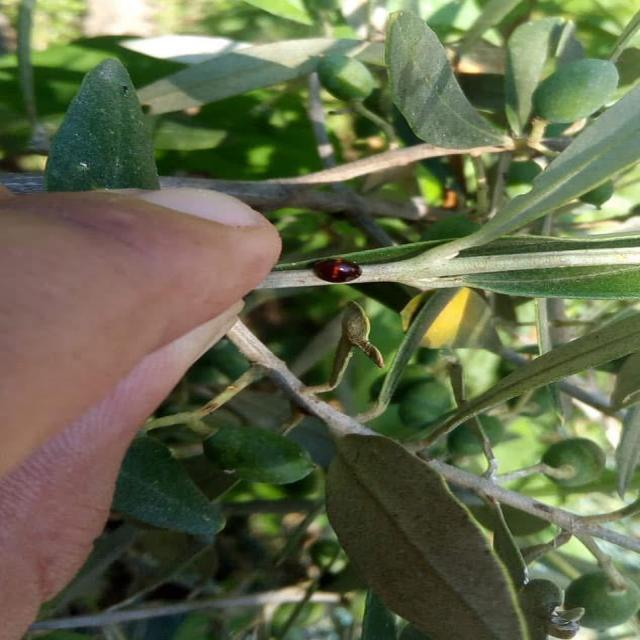BlackScale: (311, 258, 361, 283)
